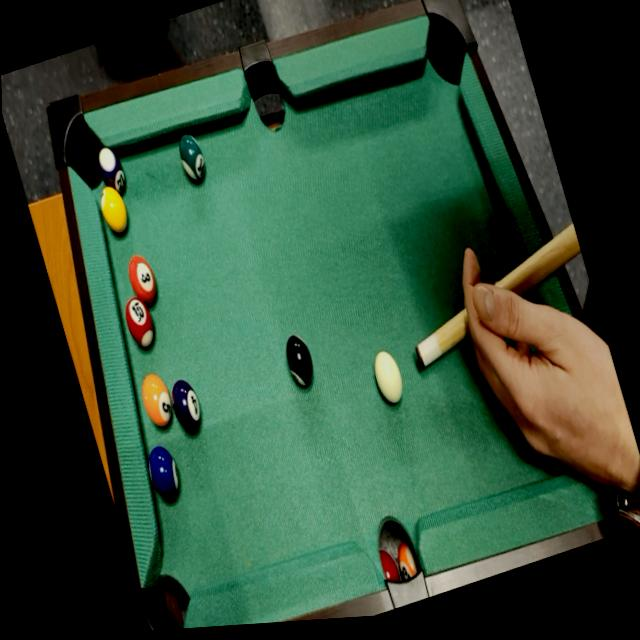cue ball: (368, 343, 409, 409)
other: (133, 361, 179, 437), (140, 437, 186, 509), (162, 371, 208, 442), (278, 324, 323, 396), (121, 249, 164, 313), (90, 140, 131, 202), (119, 292, 161, 352), (174, 126, 212, 191), (95, 182, 133, 242)
